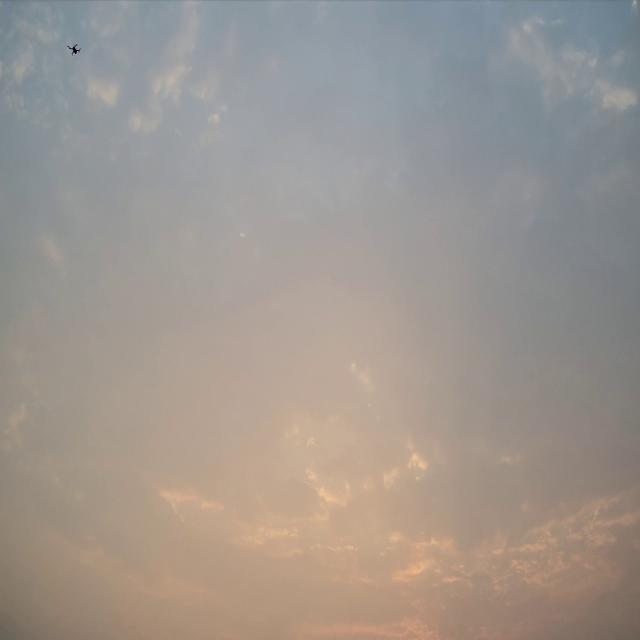UAV: (66, 43, 83, 56)
